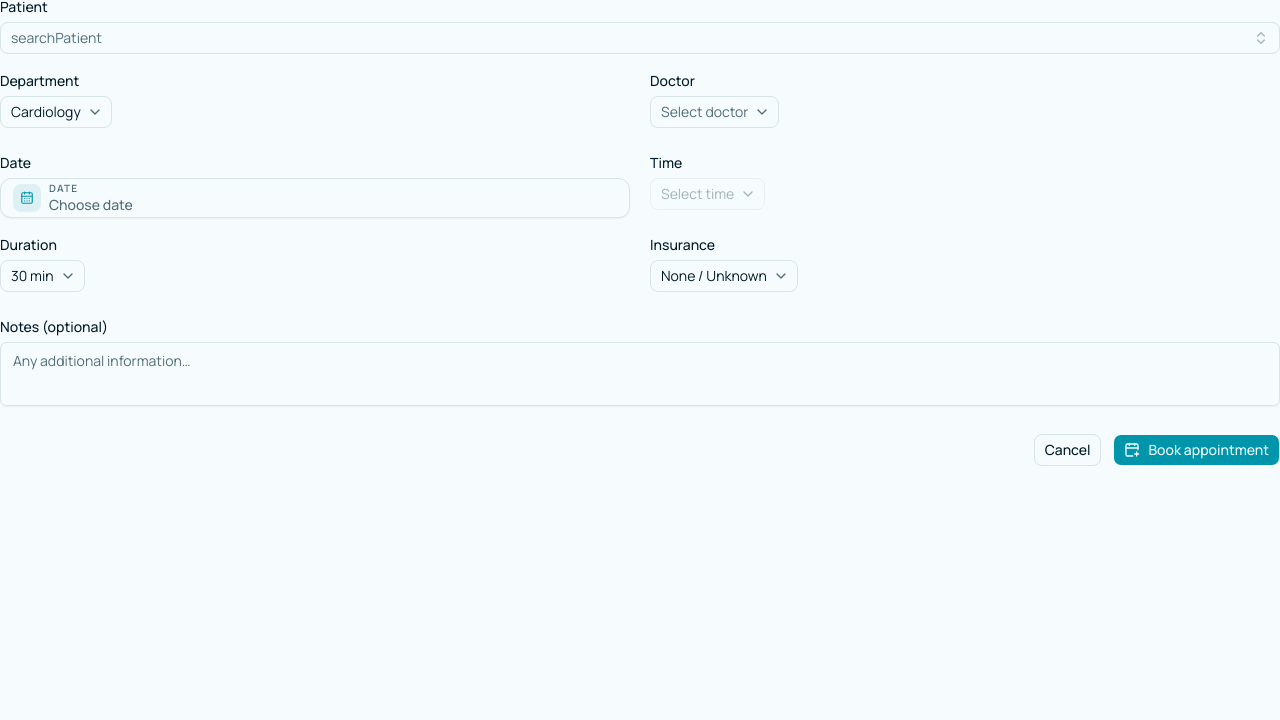
Test case: appointment form patient context autofill › keeps the selected patient doctor valid after department autofill filters doctors
Click the dropdown labelled "searchPatient".
click(56, 38)  # box [0,22,1279,54]
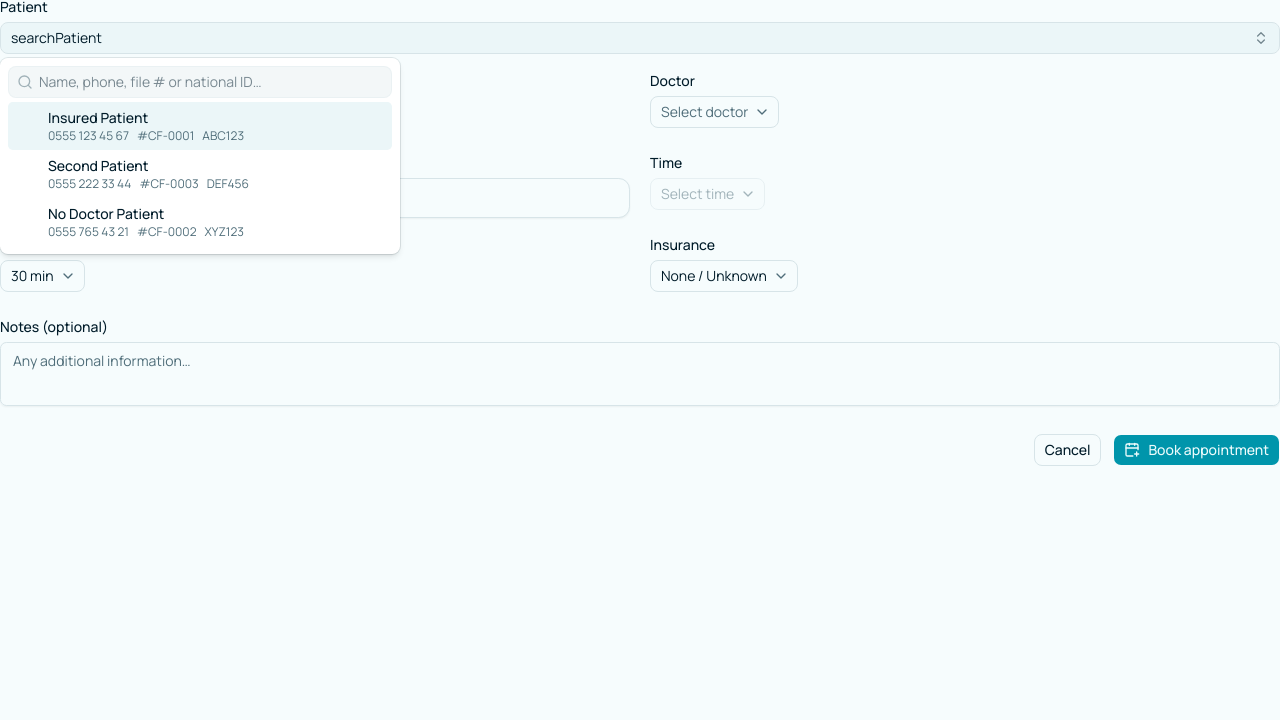
Click the option "Insured Patient 0555 123 45 67#CF-0001ABC123".
click(200, 126)  # box [8,102,392,150]
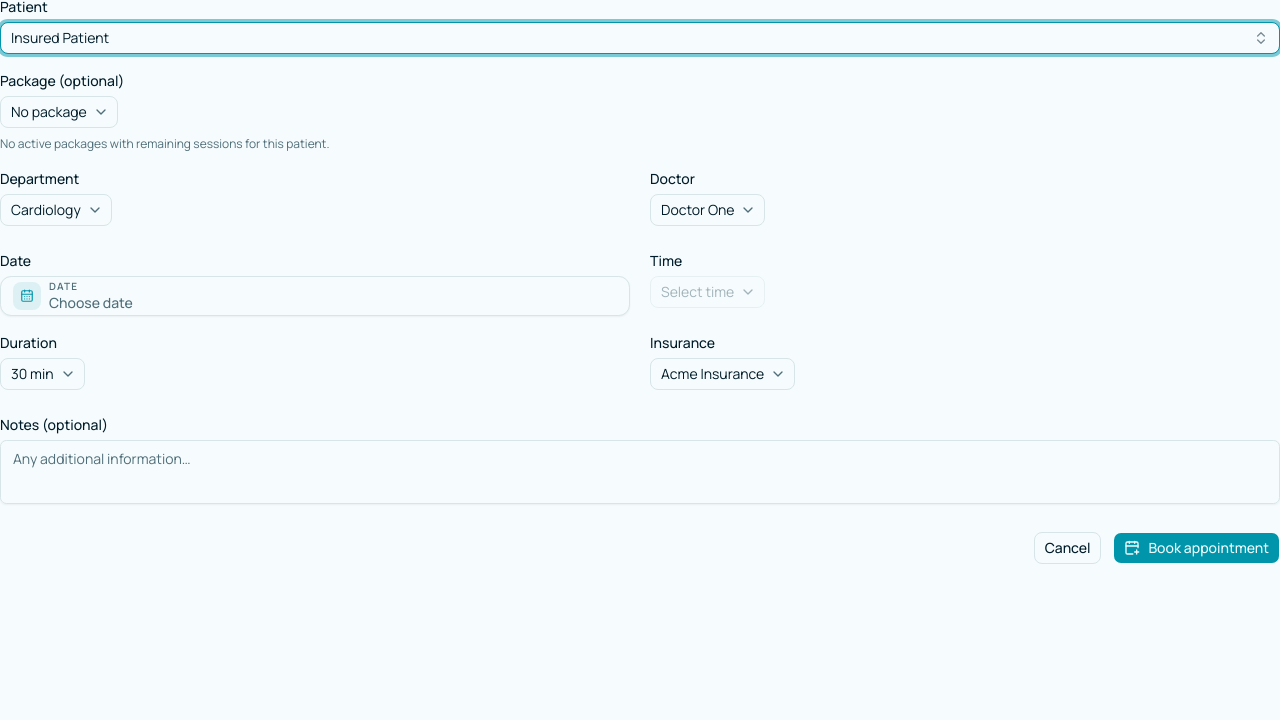
Click the dropdown labelled "Doctor One".
click(708, 210)  # box [650,194,766,226]
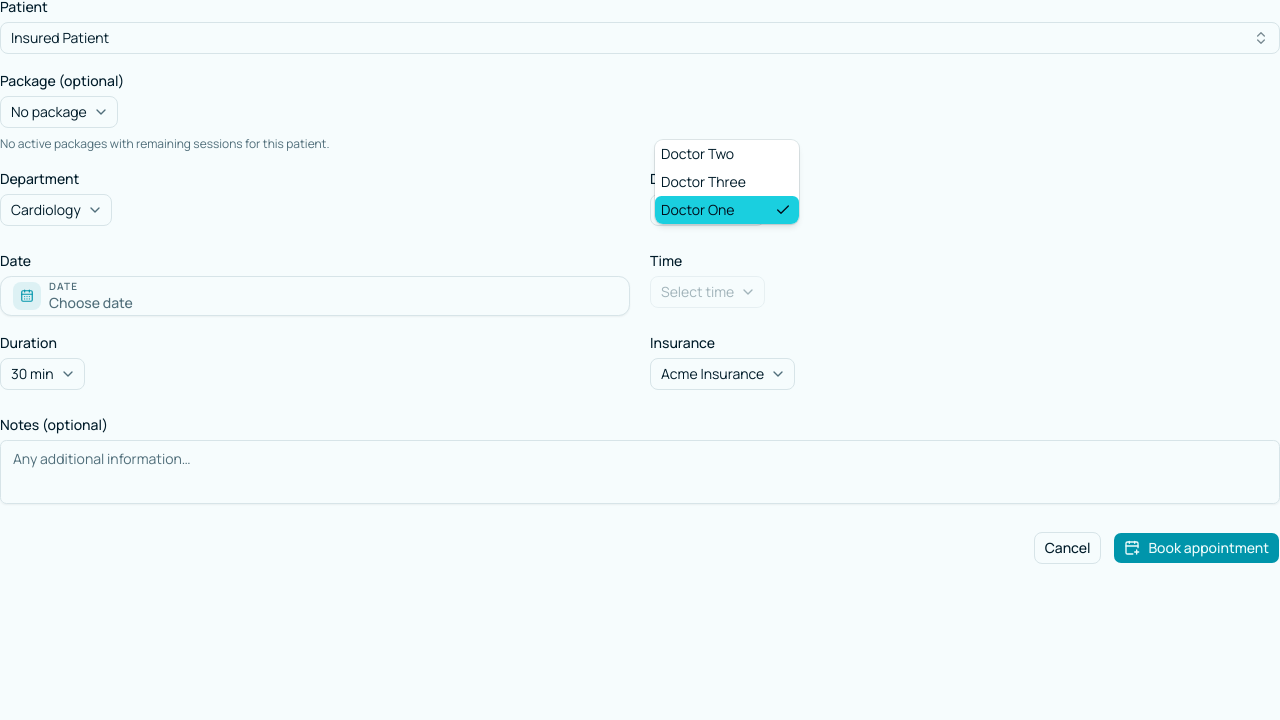
Expected: the text "Doctor One" is shown, [661,200,734,220]
